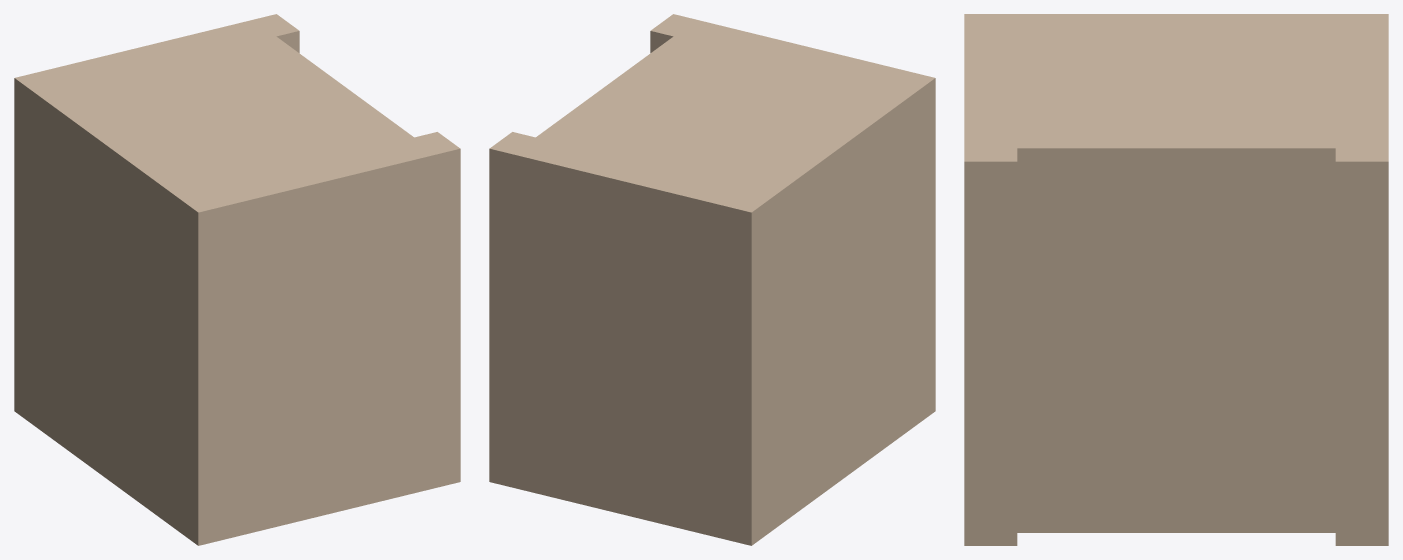
The model's file is Buidling_ArtDeco_Piece.fbx.
The picture shows the model from 3 angles, left to right: view 1: azimuth 30°, elevation 25°; view 2: azimuth 150°, elevation 25°; view 3: azimuth 270°, elevation 25°; orthographic projection. The views are drawn at different scales.
Parts seen in each view (by area): view 1: Cube; view 2: Cube; view 3: Cube.
Part boxes in pixels (x1,y1,x2,y2): Cube: (14,14,460,545); Cube: (489,14,935,545); Cube: (964,14,1388,545).
Size of the model in its own units: 1317 by 1600 by 1600.
